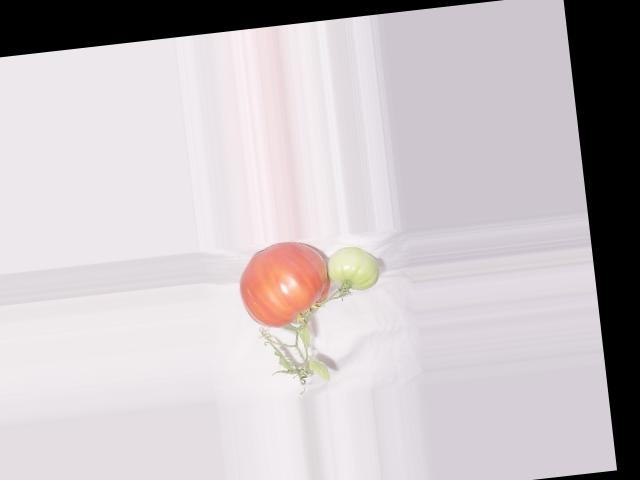tomato: (235, 238, 335, 331)
